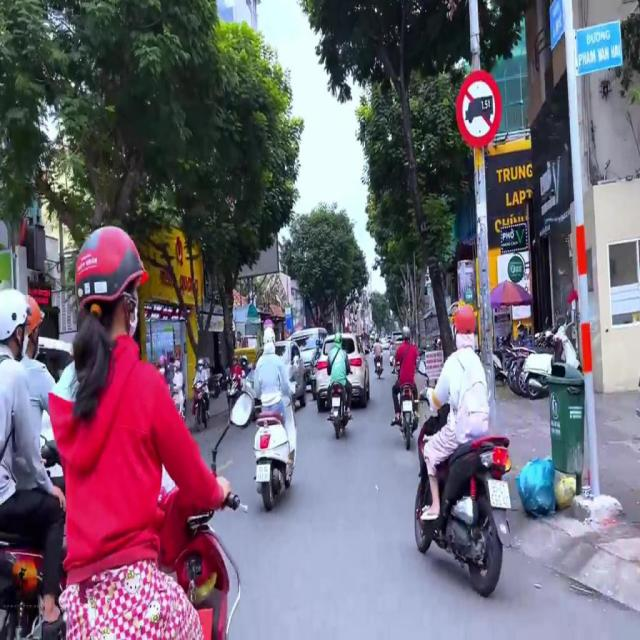cam_o_to_tai: (455, 71, 502, 146)
